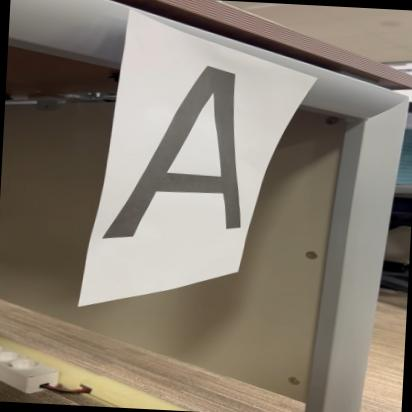seat: (97, 46, 274, 263)
